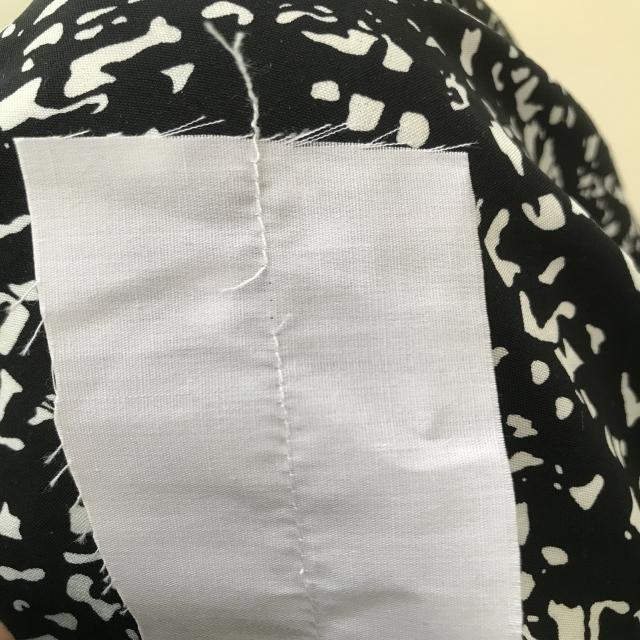broken: (222, 254, 310, 349)
